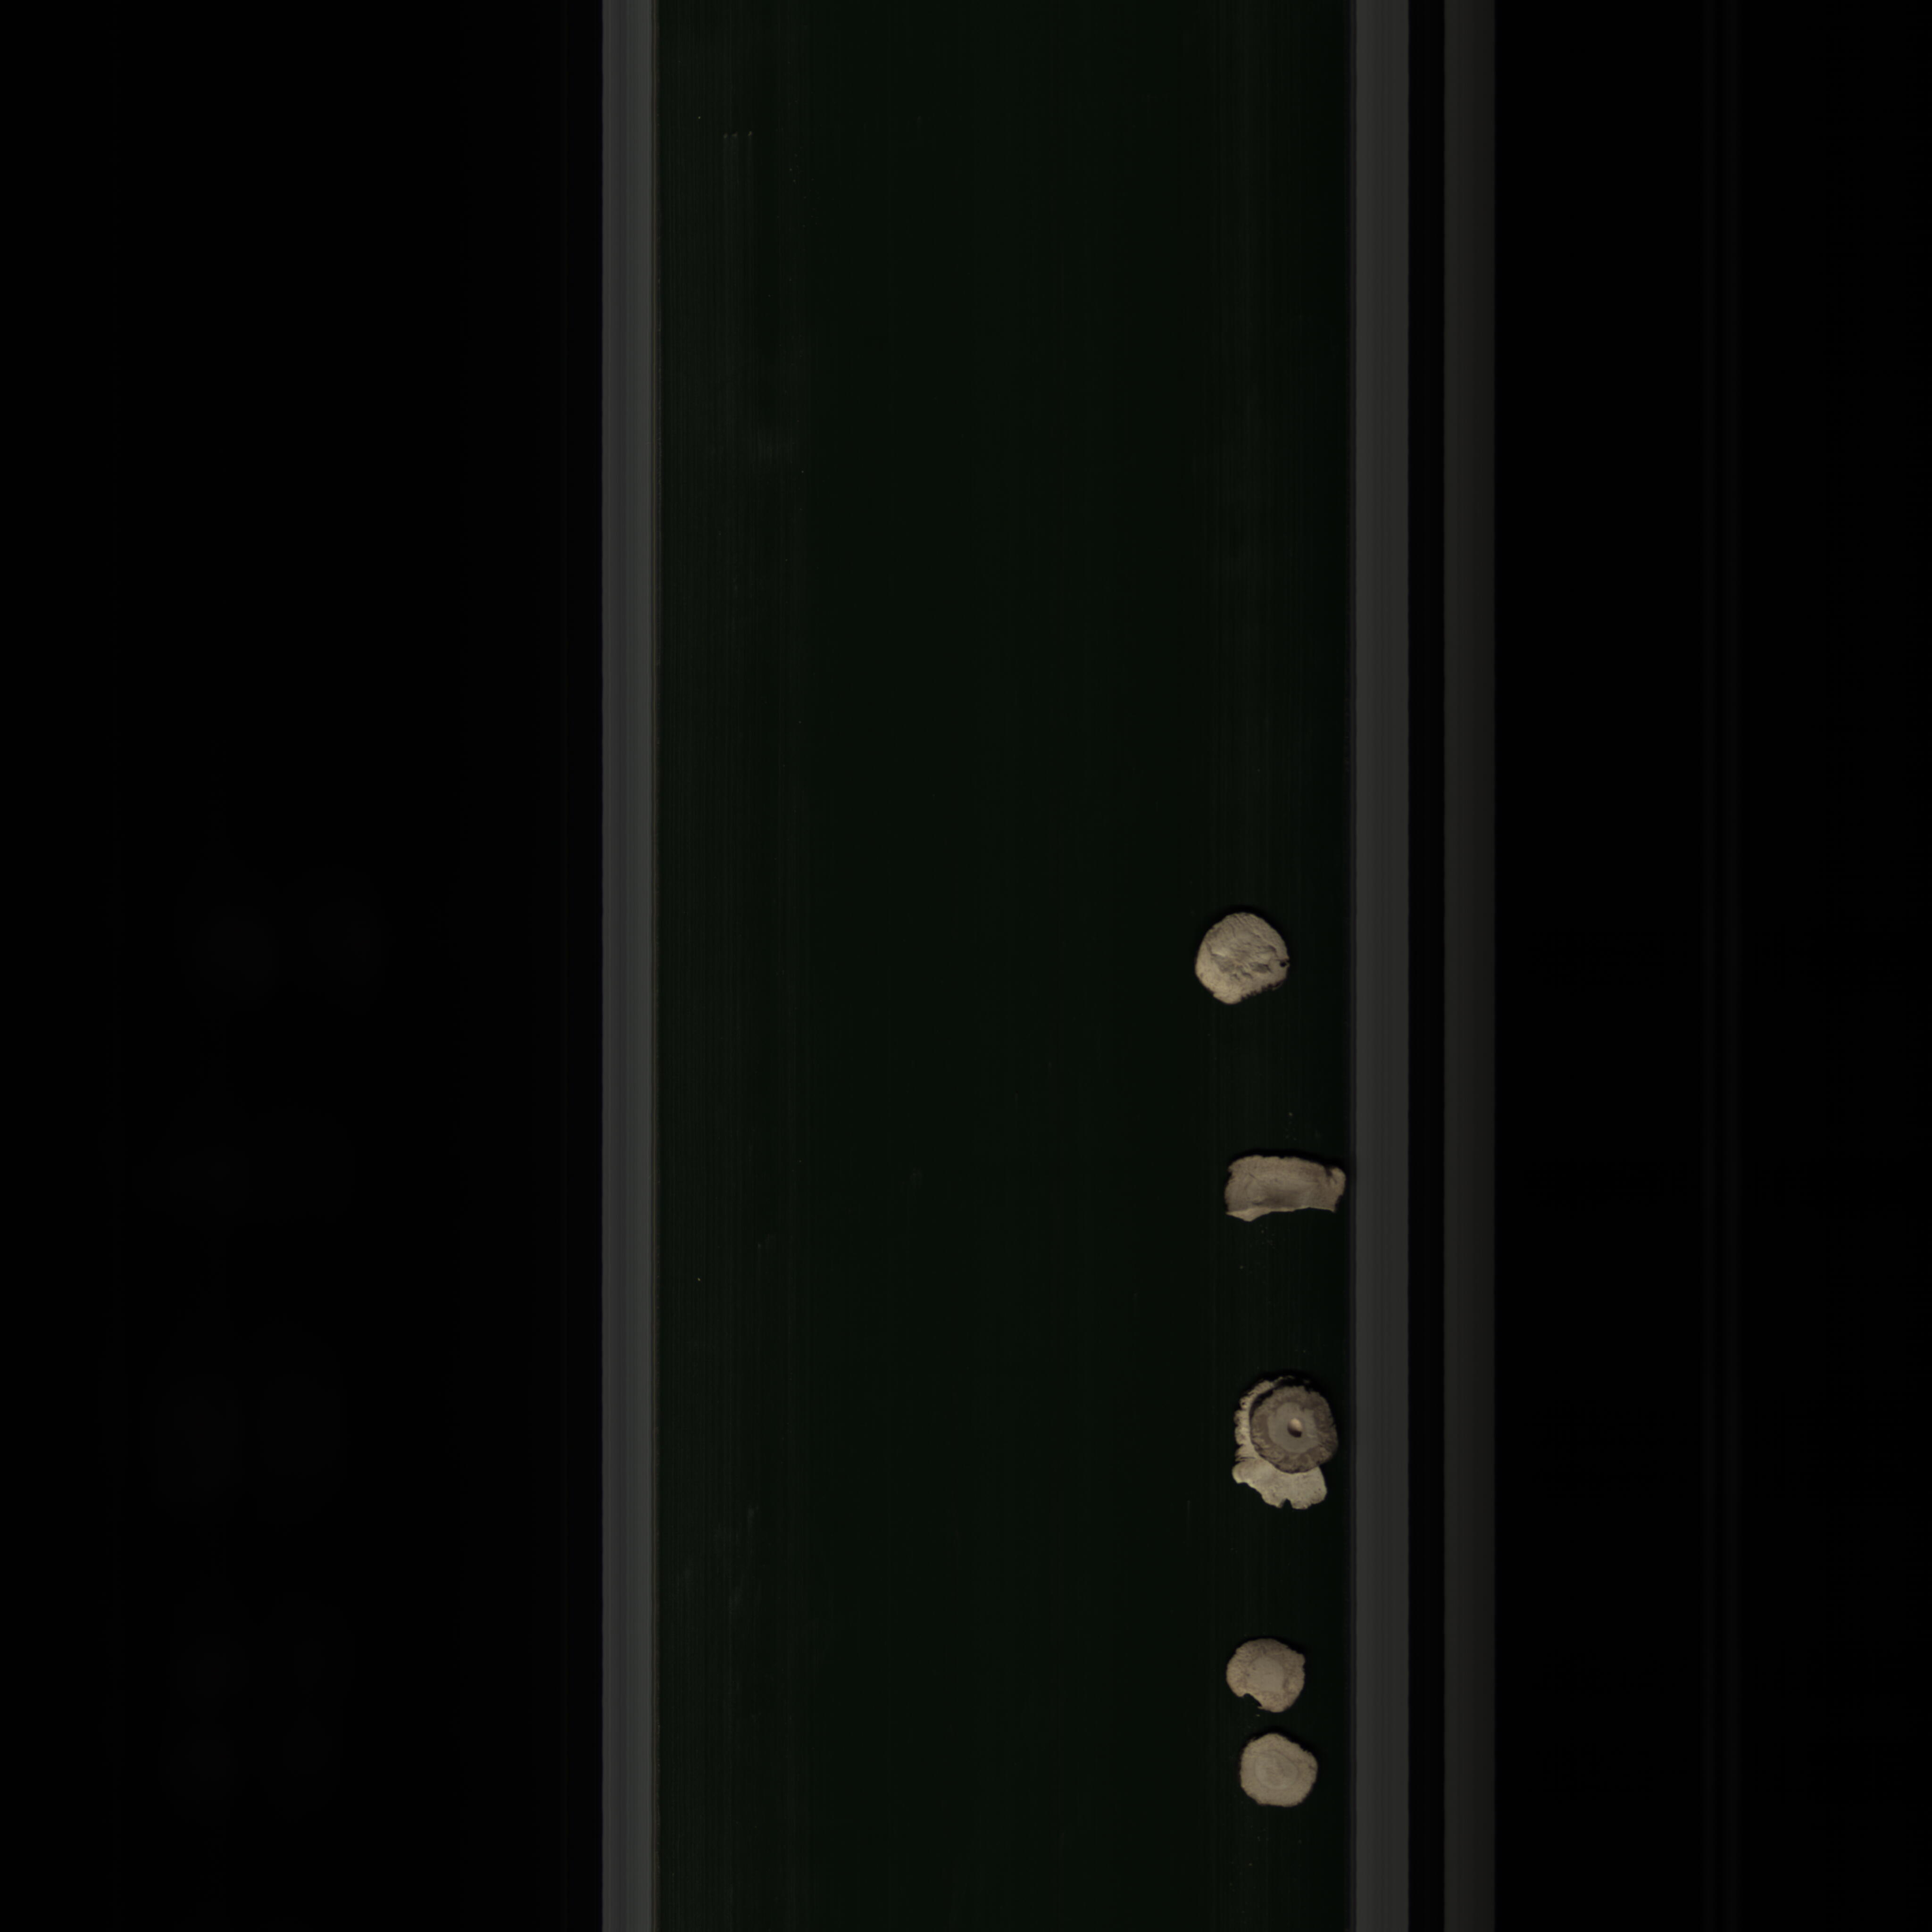debris: (1221, 1146, 1348, 1231), (1221, 1633, 1325, 1725)
